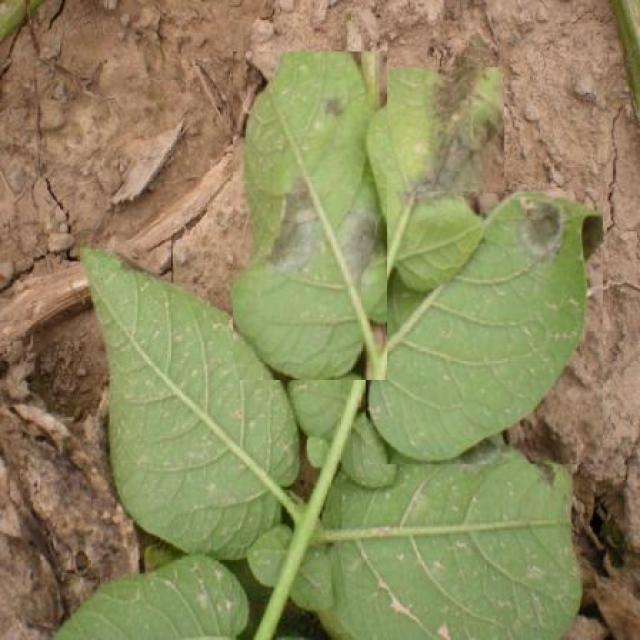Late Blight: (366, 192, 604, 464), (233, 51, 387, 380), (356, 67, 505, 299)
